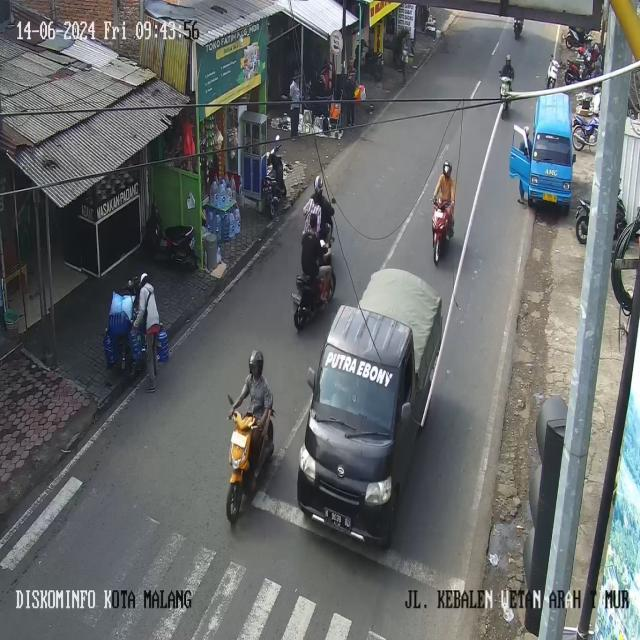Helmet: (249, 350, 263, 377), (442, 161, 452, 177), (314, 175, 323, 192), (593, 86, 600, 94), (524, 126, 529, 135), (506, 54, 510, 62)
Number Plate: (325, 509, 350, 528), (231, 431, 246, 447), (543, 193, 557, 202)
Rearview Mirror: (401, 402, 411, 423), (307, 367, 315, 389), (227, 394, 233, 404), (572, 153, 576, 163), (275, 134, 279, 141), (331, 197, 335, 203)
